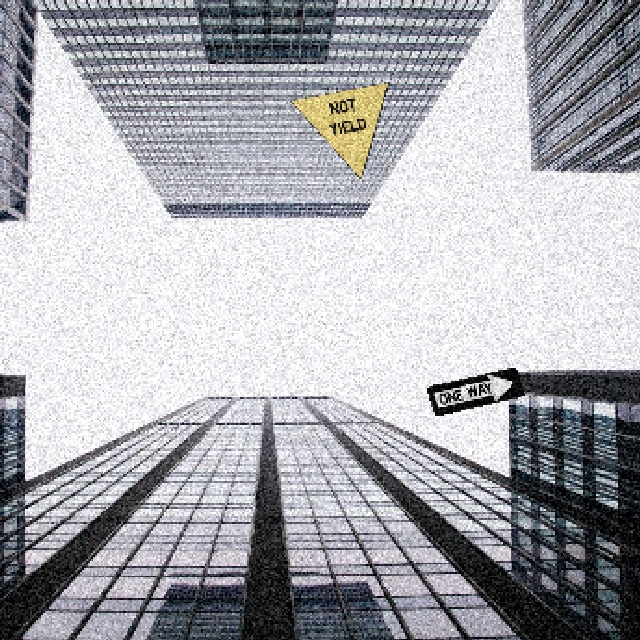NOT_YIELD: (288, 80, 388, 178)
ONE_WAY_ right: (424, 365, 524, 415)
